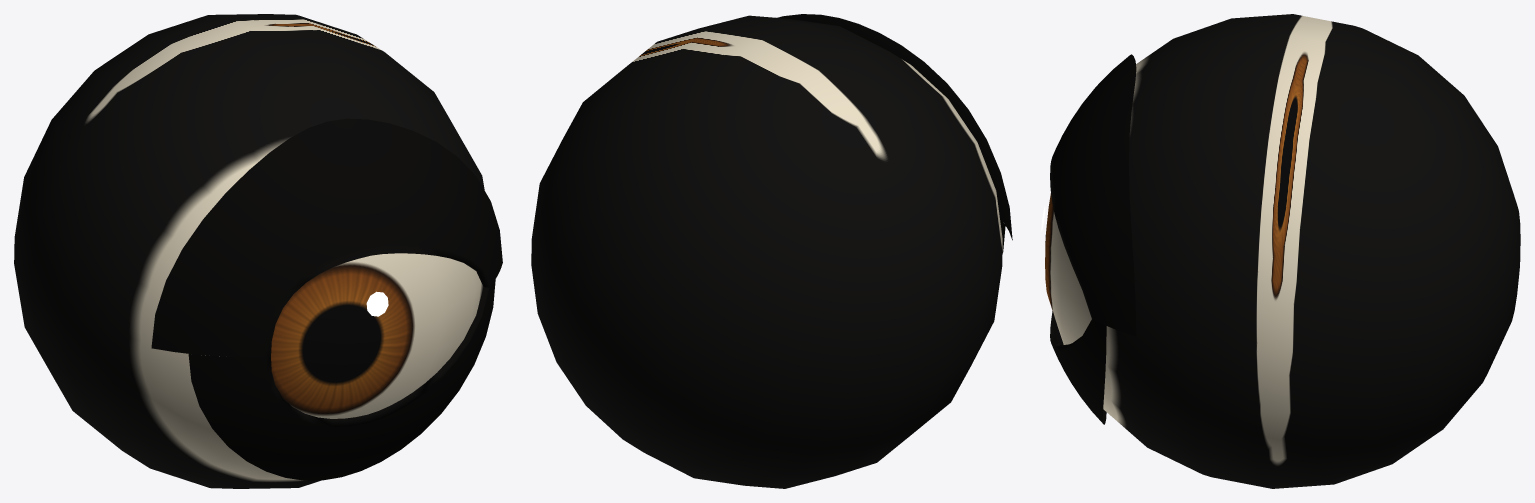
Rendered from goose_eye.glb.
3 renders of one model, left to right at view 1: azimuth 30°, elevation 25°; view 2: azimuth 150°, elevation 25°; view 3: azimuth 270°, elevation 25°, orthographic.
Parts seen in each view (by area): view 1: eyeball, lid_upper, lid_lower; view 2: eyeball, lid_upper; view 3: eyeball, lid_upper, lid_lower.
Part boxes in pixels (<box>): eyeball: <box>14,14,484,488</box>; lid_upper: <box>151,118,502,357</box>; lid_lower: <box>188,279,495,480</box>; eyeball: <box>531,15,1002,488</box>; lid_upper: <box>777,14,1012,240</box>; eyeball: <box>1045,14,1520,488</box>; lid_upper: <box>1050,54,1136,336</box>; lid_lower: <box>1050,311,1106,424</box>.
Bounding box in the file's own units: 0.0476 × 0.048 × 0.048.
4 materials, 1 textured.
